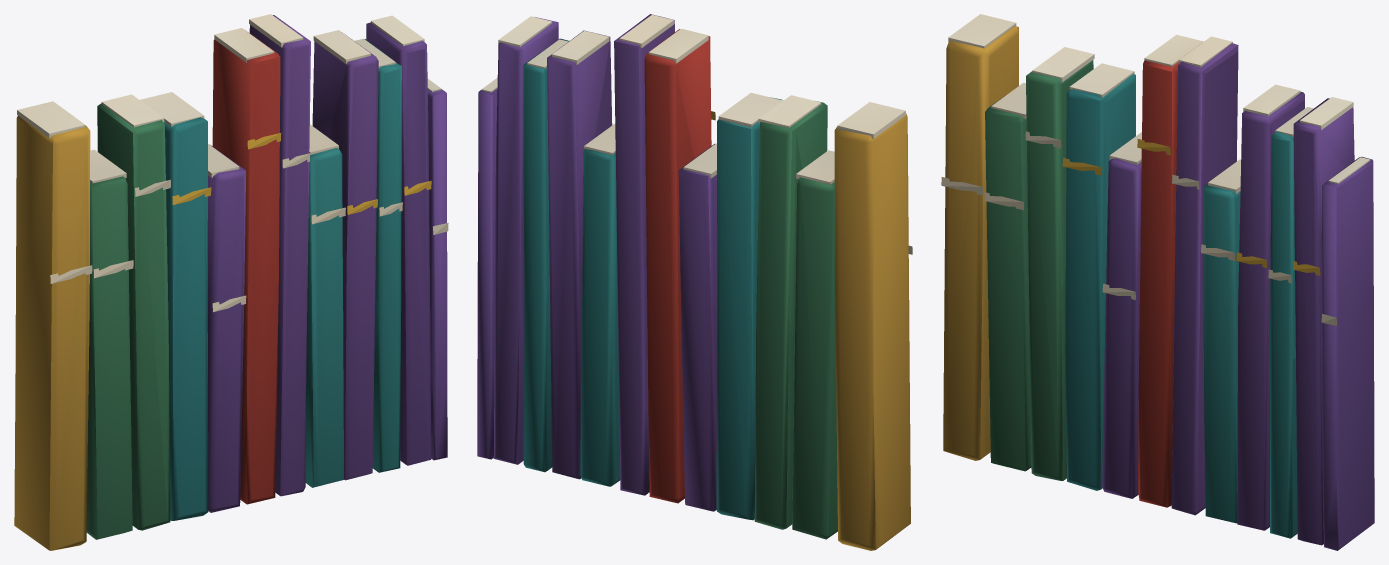
Rendered from den_book_wall_lod2.glb.
The picture shows the model from 3 angles, left to right: view 1: azimuth 30°, elevation 25°; view 2: azimuth 150°, elevation 25°; view 3: azimuth 330°, elevation 25°; orthographic projection.
Parts seen in each view (by area): view 1: den_book_wall.001; view 2: den_book_wall.001; view 3: den_book_wall.001.
Boxes of the visible parts, x1,y1,x2,y2 form: den_book_wall.001: (14,14,448,550); den_book_wall.001: (477,14,912,550); den_book_wall.001: (941,14,1374,550).
Bounding box in the file's own units: 24.09 × 25.99 × 4.03.
